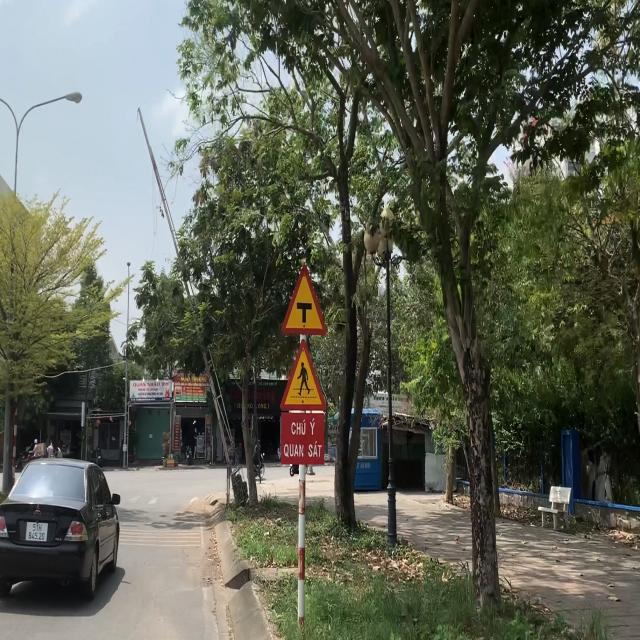Duong giao nhau: (280, 262, 328, 336)
Nguoi di bo cat ngang: (278, 336, 329, 412)
